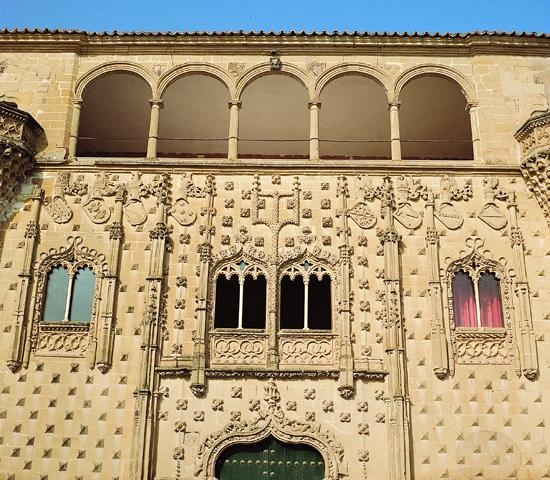arco-conopial: (205, 413, 340, 471), (35, 240, 105, 279), (443, 247, 514, 280), (209, 245, 274, 280), (274, 247, 337, 280)
arco-medio-punto: (394, 62, 476, 116), (315, 61, 395, 115), (73, 60, 156, 112), (234, 60, 314, 113), (154, 61, 234, 111)
